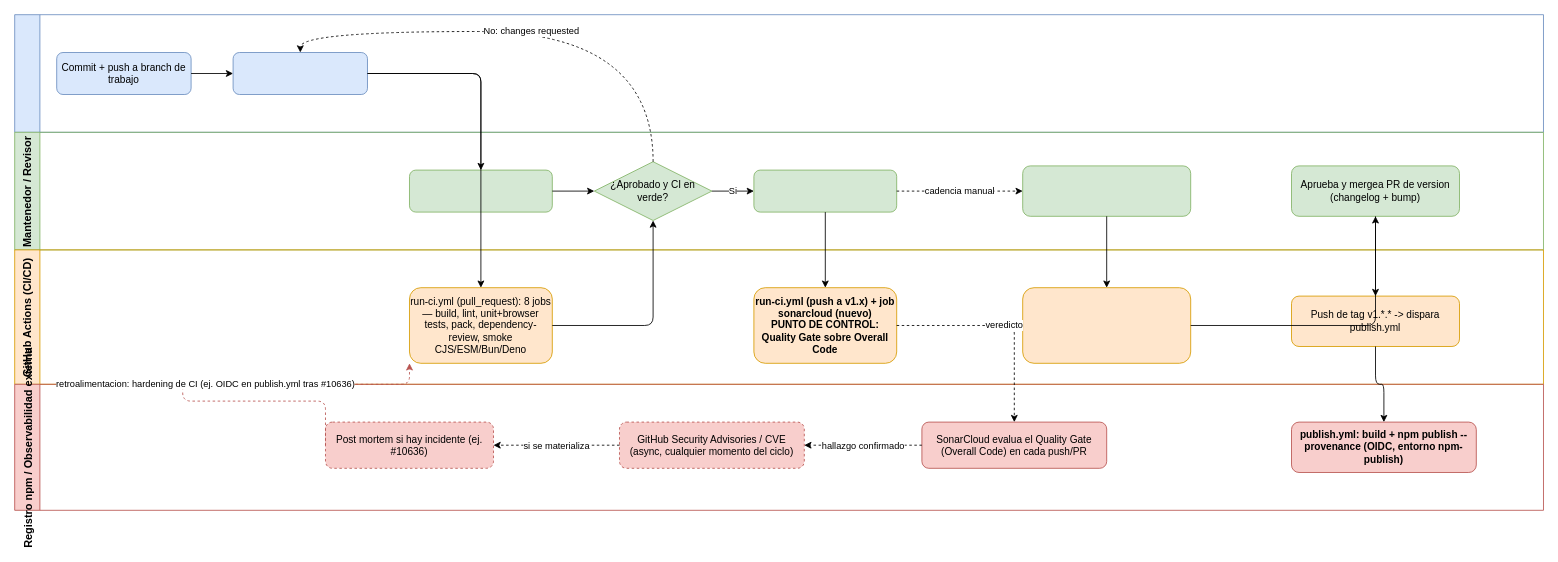
The diagram is 1558 pixels wide and 562 high, and some of its shapes have lost their labels. Each missing label, with the box of its shape:
Abre Pull Request contra v1.x: (232, 52, 368, 94)
Contribuidor: (14, 14, 1544, 132)
Merge (squash) a v1.x: (753, 169, 897, 212)
release-branch.yml: build+test, bump version, abre PR de release: (1022, 287, 1191, 363)
Revisión de código (maintainer): (409, 169, 552, 212)
workflow_dispatch -> Create release branch (patch/minor/major): (1022, 165, 1191, 216)
